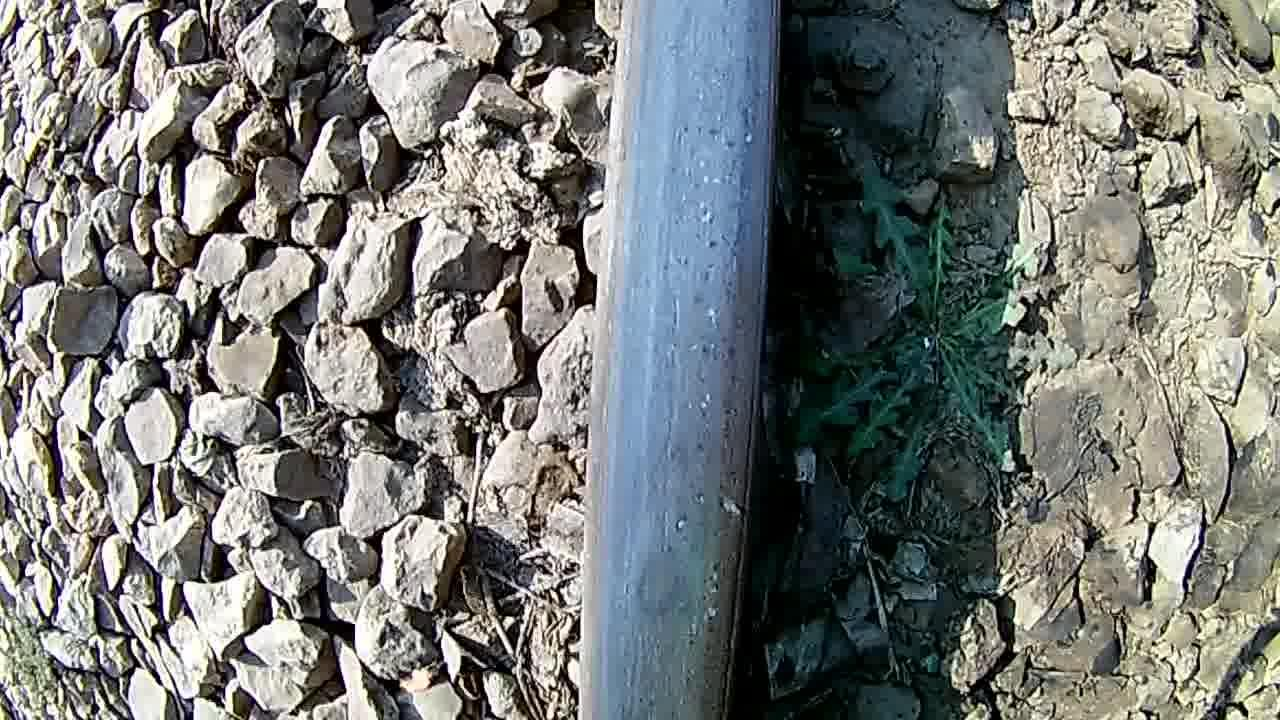bolt_missing: (603, 483, 727, 695)
